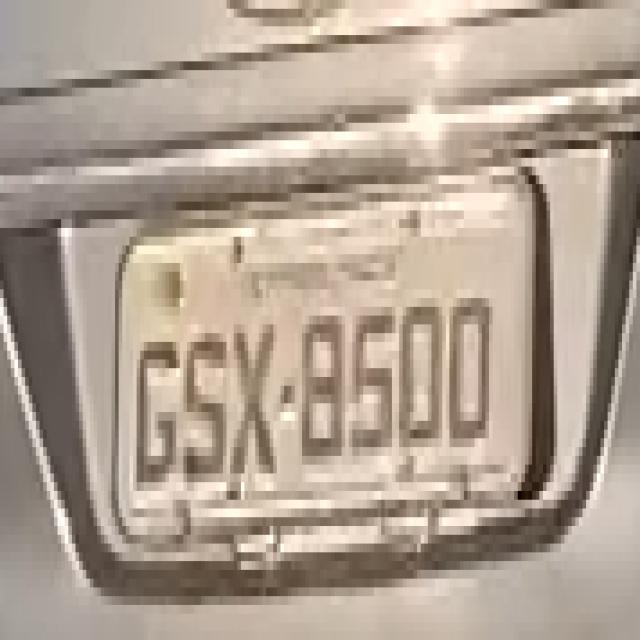Placa_mercosul_carro: (113, 163, 558, 552)
